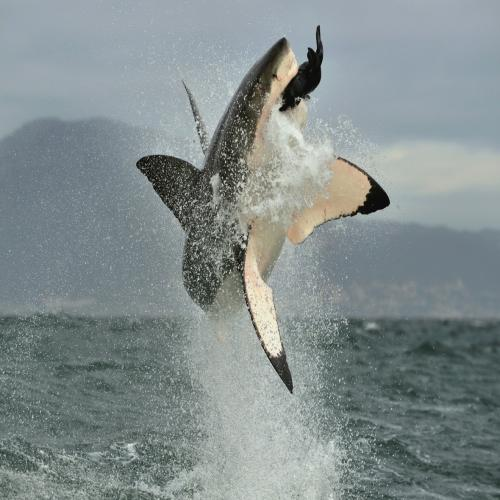shark-endangered: (131, 22, 337, 344)
